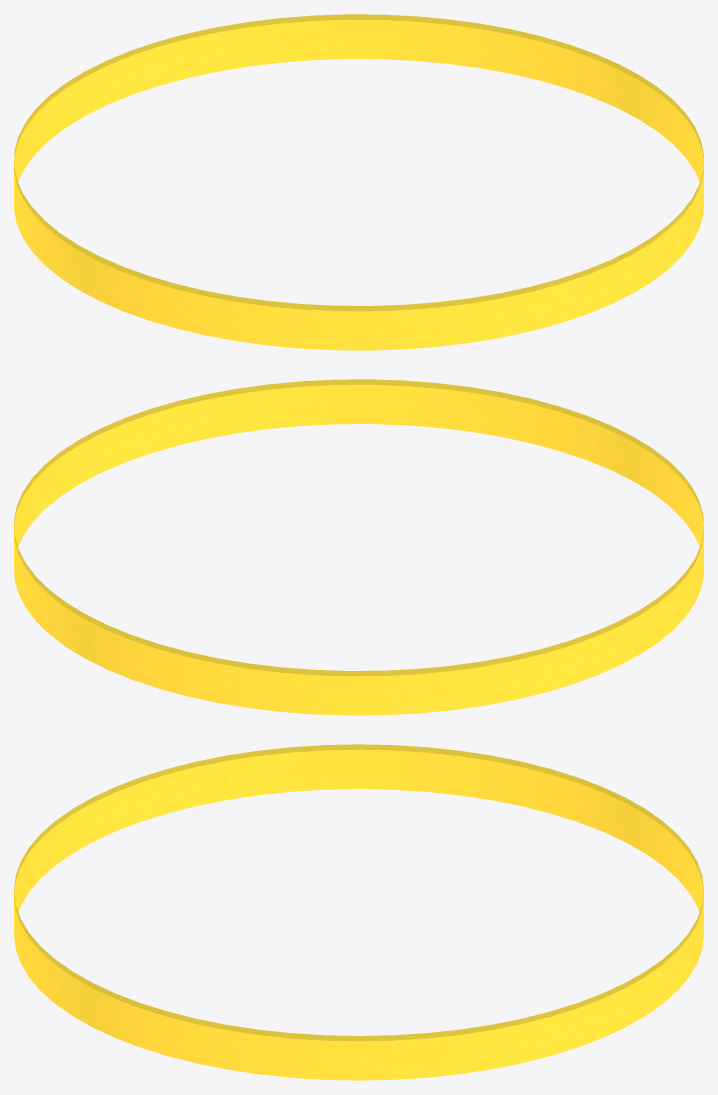
File: perimeter.glb
The picture shows the model from 3 angles, top to bottom: view 1: azimuth 30°, elevation 25°; view 2: azimuth 150°, elevation 25°; view 3: azimuth 270°, elevation 25°; orthographic projection.
Parts seen in each view (by area): view 1: Cylinder; view 2: Cylinder; view 3: Cylinder.
Boxes of the visible parts, x1=… form: Cylinder: x1=14, y1=14, x2=703, y2=350; Cylinder: x1=14, y1=379, x2=703, y2=715; Cylinder: x1=14, y1=744, x2=703, y2=1080.
Size of the model in its own units: 2 by 0.1428 by 2.
1 material, 1 textured.
